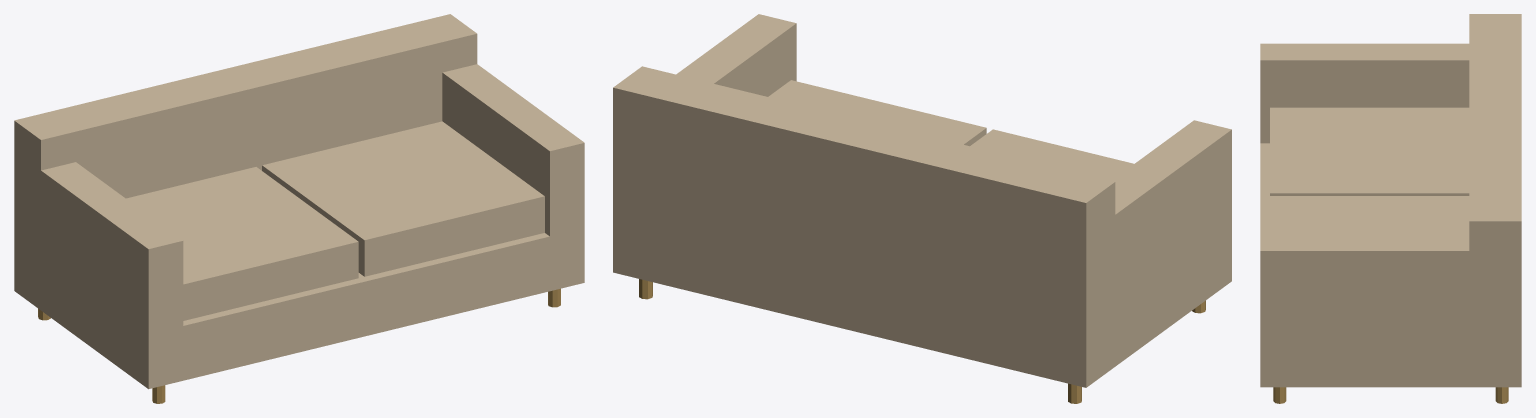
Rendered from sofa_2_lugares.obj.
3 views of the same model, side by side, from view 1: azimuth 30°, elevation 25°; view 2: azimuth 150°, elevation 25°; view 3: azimuth 270°, elevation 25° (orthographic). The views are drawn at different scales.
Parts seen in each view (by area): view 1: sofa_2_lugares; view 2: sofa_2_lugares; view 3: sofa_2_lugares.
Boxes of the visible parts, box(x1,y1,x2,y2) form: sofa_2_lugares: box(14, 14, 584, 403); sofa_2_lugares: box(613, 14, 1231, 403); sofa_2_lugares: box(1260, 14, 1521, 403).
Bounding box in the file's own units: 150 × 64 × 80.
